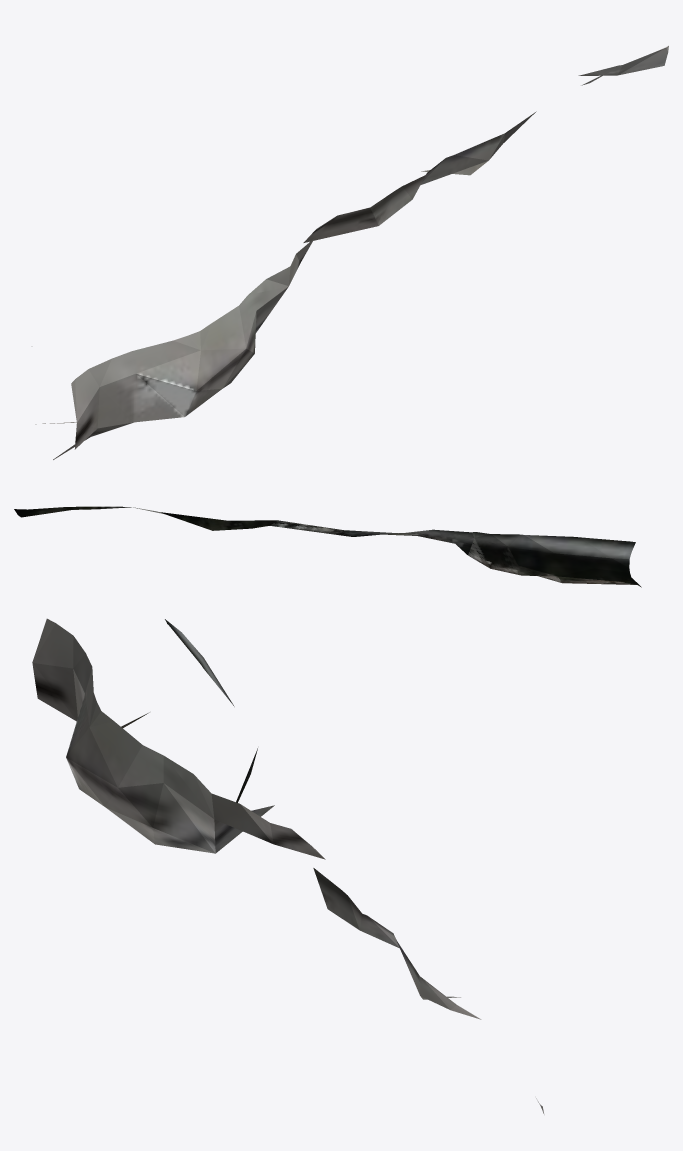
3 renders of one model, top to bottom at view 1: azimuth 30°, elevation 25°; view 2: azimuth 150°, elevation 25°; view 3: azimuth 270°, elevation 25°, orthographic. The views are drawn at different scales.
Size of the model in its own units: 0.8373 by 0.0981 by 0.4479.
Materials: 1 (1 with a texture image).
